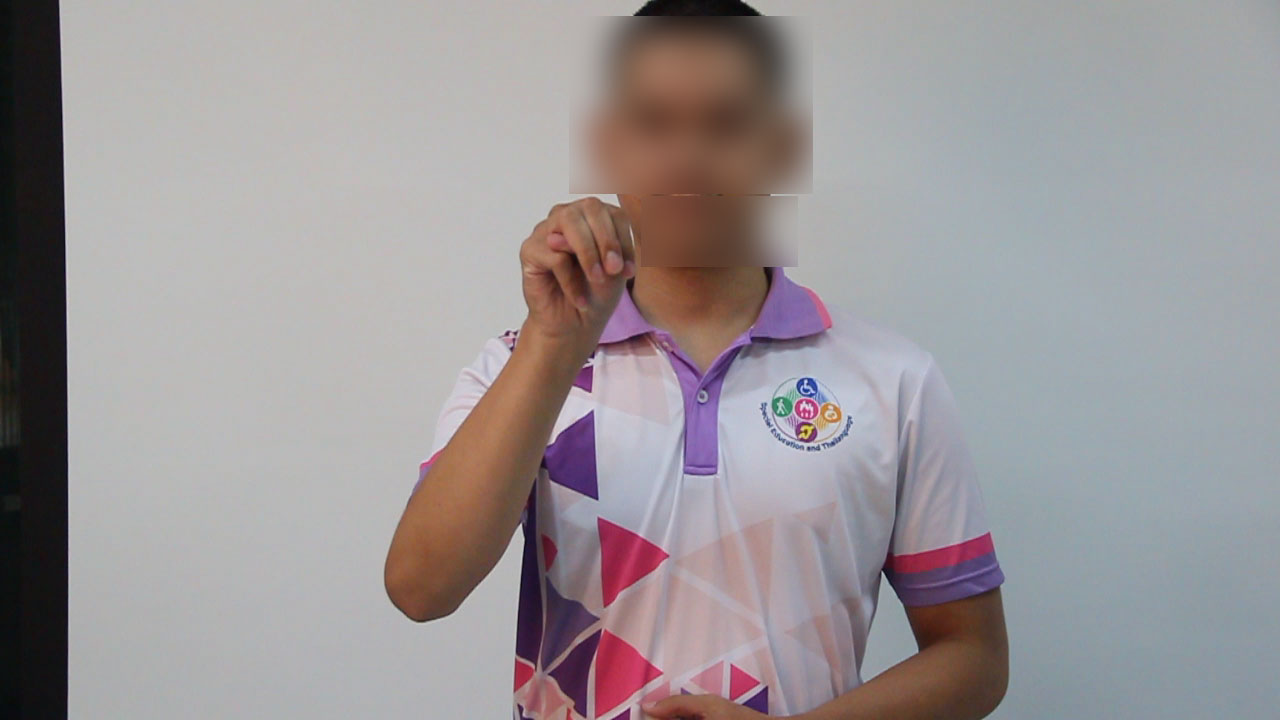mor: (518, 177, 642, 354)
